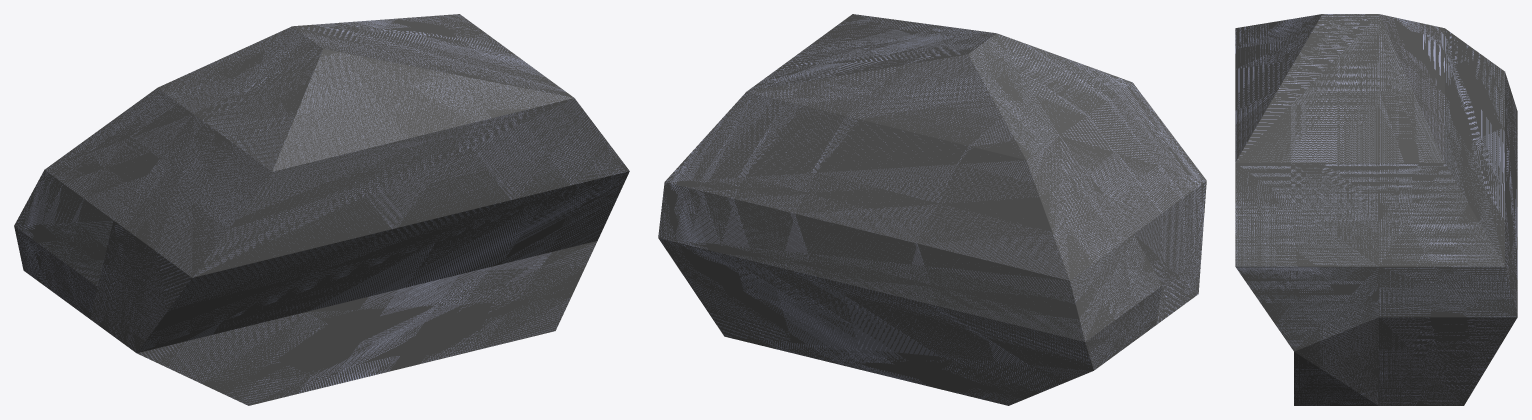
The model's file is stone_1.dae.
3 views of the same model, side by side, from view 1: azimuth 30°, elevation 25°; view 2: azimuth 150°, elevation 25°; view 3: azimuth 270°, elevation 25° (orthographic). The views are drawn at different scales.
Visible parts, largest first — view 1: SketchUp; view 2: SketchUp; view 3: SketchUp.
Boxes of the visible parts, <box> form: SketchUp: <box>14,14,629,405</box>; SketchUp: <box>658,14,1206,405</box>; SketchUp: <box>1235,14,1517,405</box>.
Size of the model in its own units: 0.0867 by 0.0504 by 0.0581.
